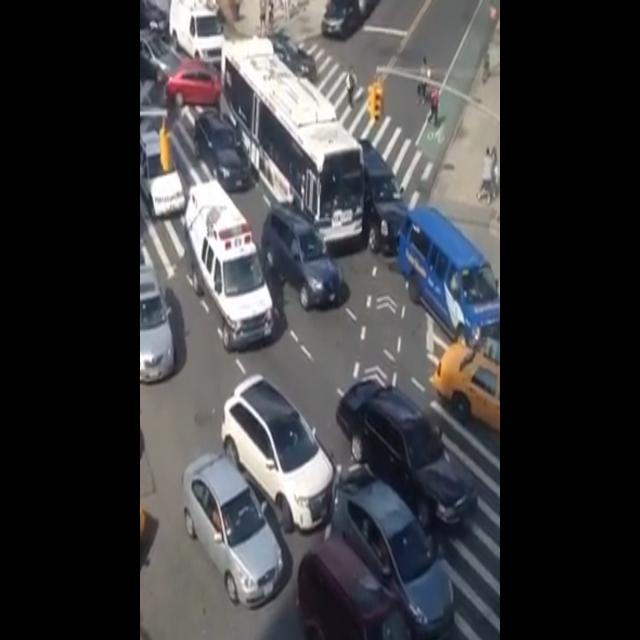Ambulance: (180, 165, 276, 352)
